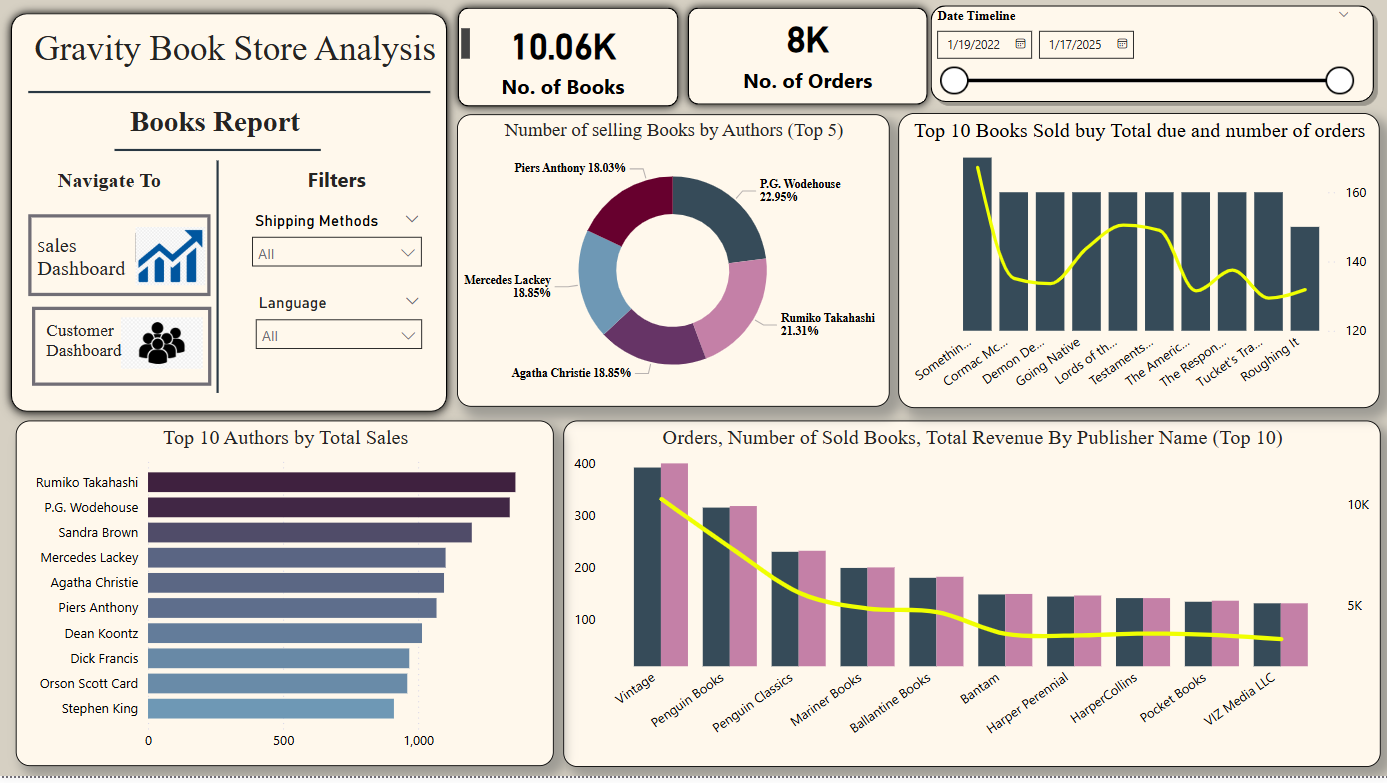

This screenshot's page, from the dashboard's own definition file:
{"tool":"powerbi","page":{"name":"Book Dashboard ","canvas":[1280,720],"ordinal":0},"visuals":[{"type":"shape","title":"Gravity Book Store Analysiszz","box":[0,6,426.7,392.2],"z":0},{"type":"shape","box":[410.2,0,229.9,117.9],"z":1000},{"type":"card","title":"Total Number of Books","fields":{"Values":["_measures.NO. Books"]},"box":[410.6,0.7,220.1,115.6],"z":2000},{"type":"shape","box":[621.3,0,247.1,115.9],"z":3000},{"type":"card","title":"Total Number of Books","fields":{"Values":["_measures.NO. Authors"]},"box":[640.8,0,208.1,105.8],"z":4000},{"type":"textbox","box":[14,28,426,49],"z":5000},{"type":"lineClusteredColumnComboChart","title":"Orders, Number of Sold Books, Total Revenue By Publisher Name (Top 10)","fields":{"Category":["DimBooks.publisher_name"],"Y2":["_measures.Total due"],"Y":["_measures.No. of Orders","FactBookSales.books_quantity_sold"]},"box":[520.6,393,750.9,318.2],"z":6000},{"type":"donutChart","title":"Number of selling Books by Authors (Top 5)","fields":{"Y":["FactBookSales.books_quantity_sold"],"Category":["DimBooks.author_name"]},"box":[423.2,112,397.3,268.8],"z":7000},{"type":"lineClusteredColumnComboChart","title":"Top 10 Books Sold buy Total due and number of orders","fields":{"Y2":["_measures.Total due"],"Category":["DimBooks.title"],"Y":["_measures.No. of Orders"]},"box":[828.7,110.8,442.1,271.1],"z":8000},{"type":"clusteredBarChart","title":"Top 10 Authors by Total Sales","fields":{"Category":["DimBooks.author_name"],"Y":["_measures.Total due"]},"box":[17,392.8,494.6,318],"z":9000},{"type":"shape","box":[28.6,83.4,369.5,14.3],"z":10000},{"type":"textbox","box":[116.8,97.7,195.5,46.5],"z":11000},{"type":"shape","box":[108.5,138.3,189.5,13.1],"z":12000},{"type":"shape","box":[851.9,5.8,419,100.1],"z":13000},{"type":"slicer","fields":{"Values":["DimShipping.method_name"]},"box":[224.3,195.1,176.4,65.4],"z":14000},{"type":"textbox","box":[32.7,154.2,362.1,50.2],"z":15000},{"type":"shape","box":[196.9,153.6,12.6,213.6],"z":16000},{"type":"slicer","fields":{"Values":["DimBooks.language_name"]},"box":[227.5,271.1,173.3,73.1],"z":17000},{"type":"slicer","fields":{"Values":["FactBookSales.date"]},"box":[851.7,9.6,403.8,106.1],"z":18000},{"type":"textbox","box":[32.5,215.6,107.8,49.6],"z":19000},{"type":"image","box":[121.5,210.5,75.3,63.3],"z":20000},{"type":"actionButton","box":[29.1,203.6,167.7,75.3],"z":21000},{"type":"image","box":[109,275.3,85.2,92.2],"z":22000},{"type":"textbox","box":[40.5,296.2,92.2,47.5],"z":23501},{"type":"actionButton","box":[32.1,287.9,164.9,72.7],"z":24501}]}

Visuals, with their boxes in screenshot pixels (x1, y1, x2, y2), scaled from the page's 1280x720 canvas onto the 1387x783 screenshot:
"Gravity Book Store Analysiszz" shape: locate(0, 7, 462, 433)
shape: locate(444, 0, 694, 128)
"Total Number of Books" card: locate(445, 1, 683, 126)
shape: locate(673, 0, 941, 126)
"Total Number of Books" card: locate(694, 0, 920, 115)
textbox: locate(15, 30, 477, 84)
"Orders, Number of Sold Books, Total Revenue By Publisher Name (Top 10)" lineClusteredColumnComboChart: locate(564, 427, 1378, 773)
"Number of selling Books by Authors (Top 5)" donutChart: locate(459, 122, 889, 414)
"Top 10 Books Sold buy Total due and number of orders" lineClusteredColumnComboChart: locate(898, 120, 1377, 415)
"Top 10 Authors by Total Sales" clusteredBarChart: locate(18, 427, 554, 773)
shape: locate(31, 91, 431, 106)
textbox: locate(127, 106, 338, 157)
shape: locate(118, 150, 323, 165)
shape: locate(923, 6, 1377, 115)
slicer - DimShipping.method_name: locate(243, 212, 434, 283)
textbox: locate(35, 168, 428, 222)
shape: locate(213, 167, 227, 399)
slicer - DimBooks.language_name: locate(247, 295, 434, 374)
slicer - FactBookSales.date: locate(923, 10, 1360, 126)
textbox: locate(35, 234, 152, 288)
image: locate(132, 229, 213, 298)
actionButton: locate(32, 221, 213, 303)
image: locate(118, 299, 210, 400)
textbox: locate(44, 322, 144, 374)
actionButton: locate(35, 313, 213, 392)
